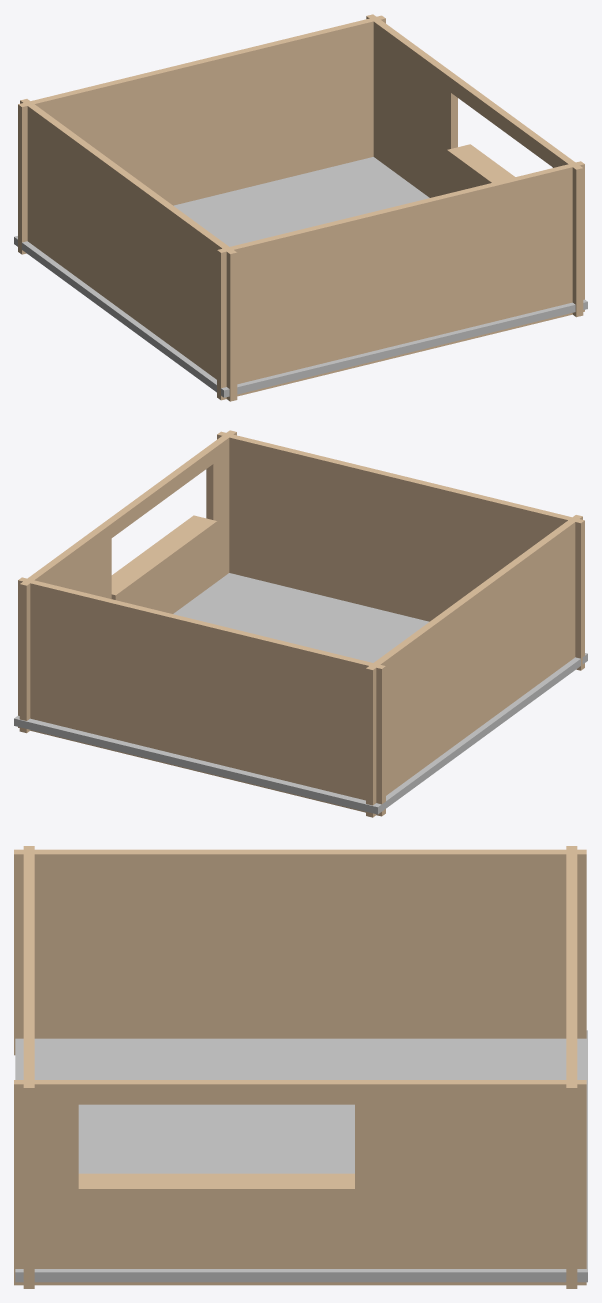
The model's file is kitchen_room.fbx.
3 renders of one model, top to bottom at view 1: azimuth 30°, elevation 25°; view 2: azimuth 150°, elevation 25°; view 3: azimuth 270°, elevation 25°, orthographic. The views are drawn at different scales.
Parts seen in each view (by area): view 1: wall2, wall1, wall4, floor, wall3; view 2: wall1, wall2, wall4, floor, wall3; view 3: wall4, wall3, floor, wall2, wall1.
Boxes of the visible parts, <box> form: wall2: <box>217,161,584,400</box>; wall1: <box>18,15,385,254</box>; wall4: <box>20,99,237,401</box>; floor: <box>14,157,587,397</box>; wall3: <box>366,14,583,317</box>; wall1: <box>18,577,385,816</box>; wall2: <box>217,431,584,670</box>; wall4: <box>366,515,582,817</box>; floor: <box>14,573,587,814</box>; wall3: <box>19,430,236,733</box>; wall4: <box>14,849,586,1055</box>; wall3: <box>14,1080,586,1285</box>; floor: <box>15,1030,587,1282</box>; wall2: <box>23,846,34,1288</box>; wall1: <box>566,846,577,1288</box>.
Size of the model in its own units: 37.5 by 14.25 by 36.88.
